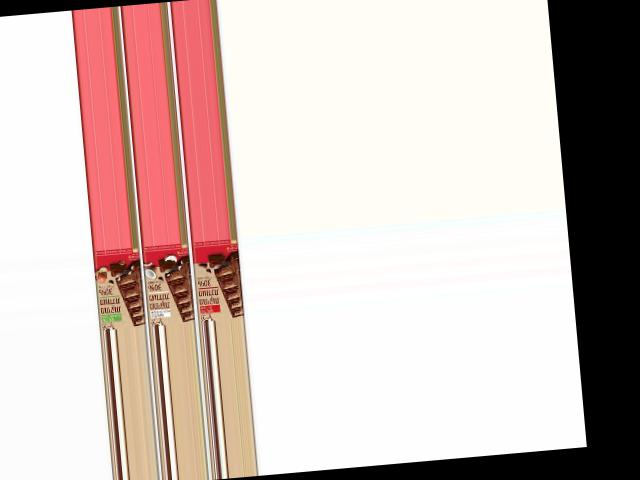chocolate: (90, 246, 144, 330)
